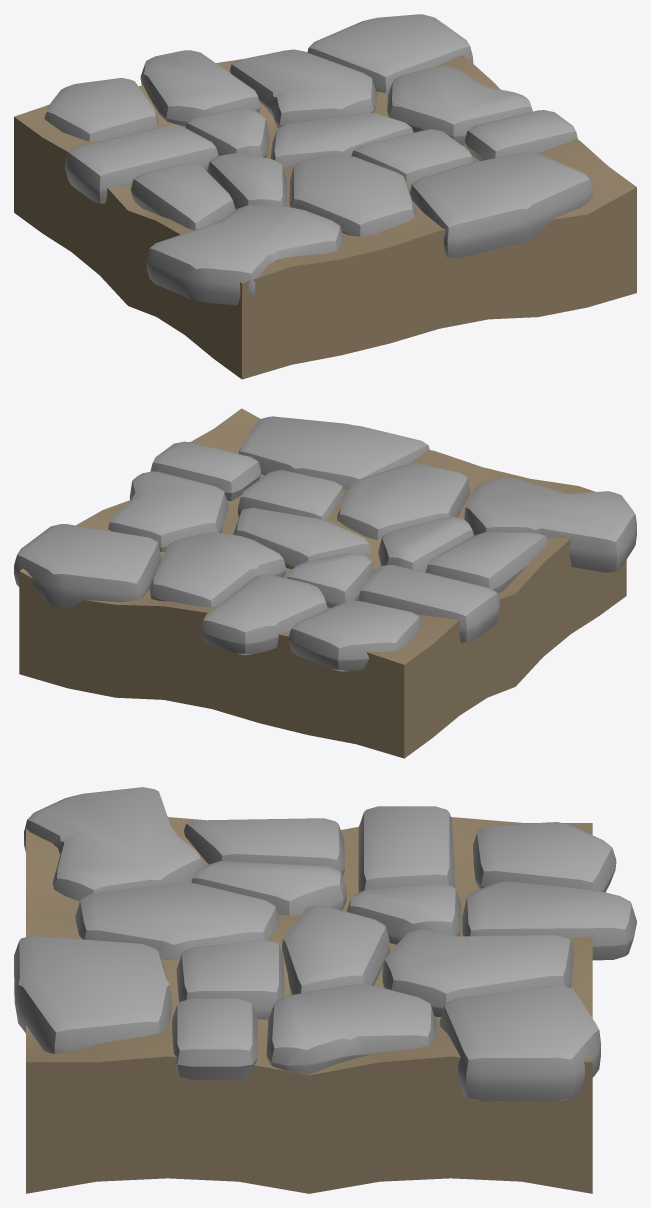
Rendered from Ground.fbx.
3 views of the same model, one above another, from view 1: azimuth 30°, elevation 25°; view 2: azimuth 150°, elevation 25°; view 3: azimuth 270°, elevation 25° (orthographic). The views are drawn at different scales.
Parts seen in each view (by area): view 1: Ground.001, Ground.002; view 2: Ground.001, Ground.002; view 3: Ground.001, Ground.002.
Boxes of the visible parts, x1,y1,x2,y2 form: Ground.001: (44,14,592,305); Ground.002: (14,55,636,379); Ground.001: (14,416,636,671); Ground.002: (19,408,626,758); Ground.001: (14,787,636,1101); Ground.002: (26,817,592,1193).
Bounding box in the file's own units: 1.15 × 0.3035 × 1.1.
